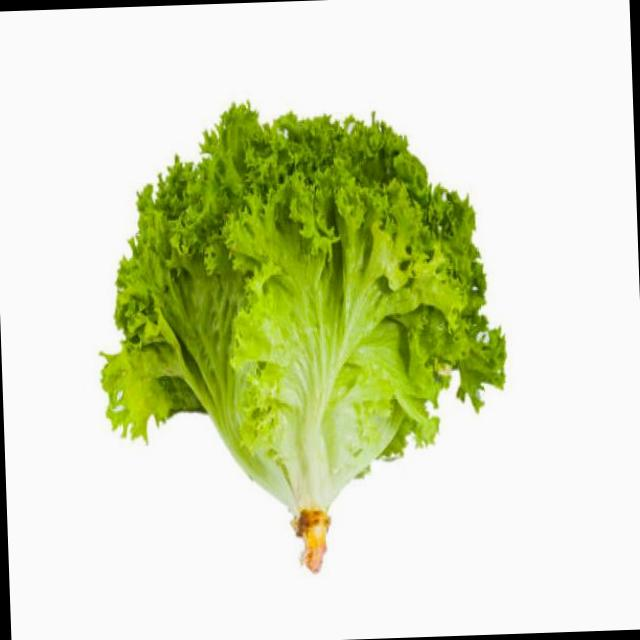Lettuce-Ready-to-Harvest: (97, 104, 506, 573)
